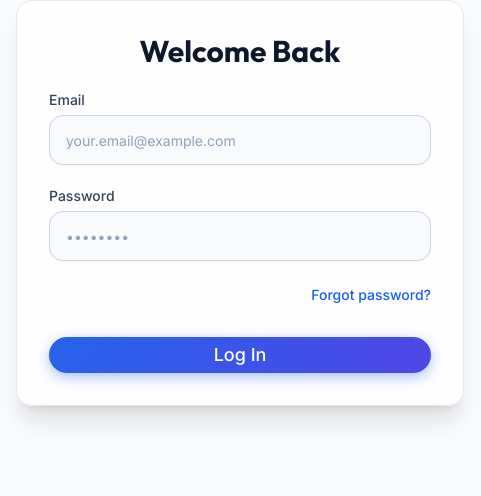
Auth Web Frontend › LoginForm › shows inline validation errors for empty fields
This screenshot has width=481, height=496.
Click the button "Log In" at (240, 355), box [49, 337, 431, 373]
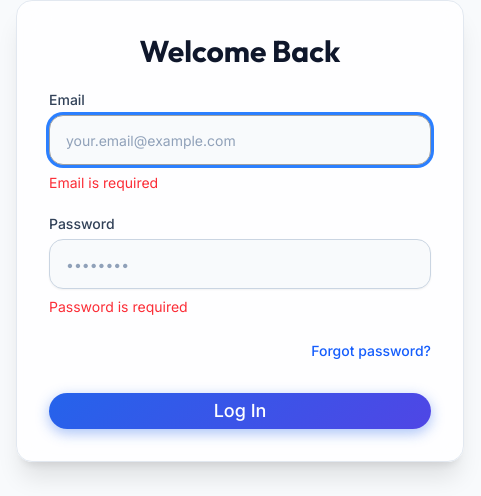
Expected: the text "Email is required" is shown, [49, 174, 158, 191]
Expected: the text "Password is required" is shown, [49, 298, 188, 315]
